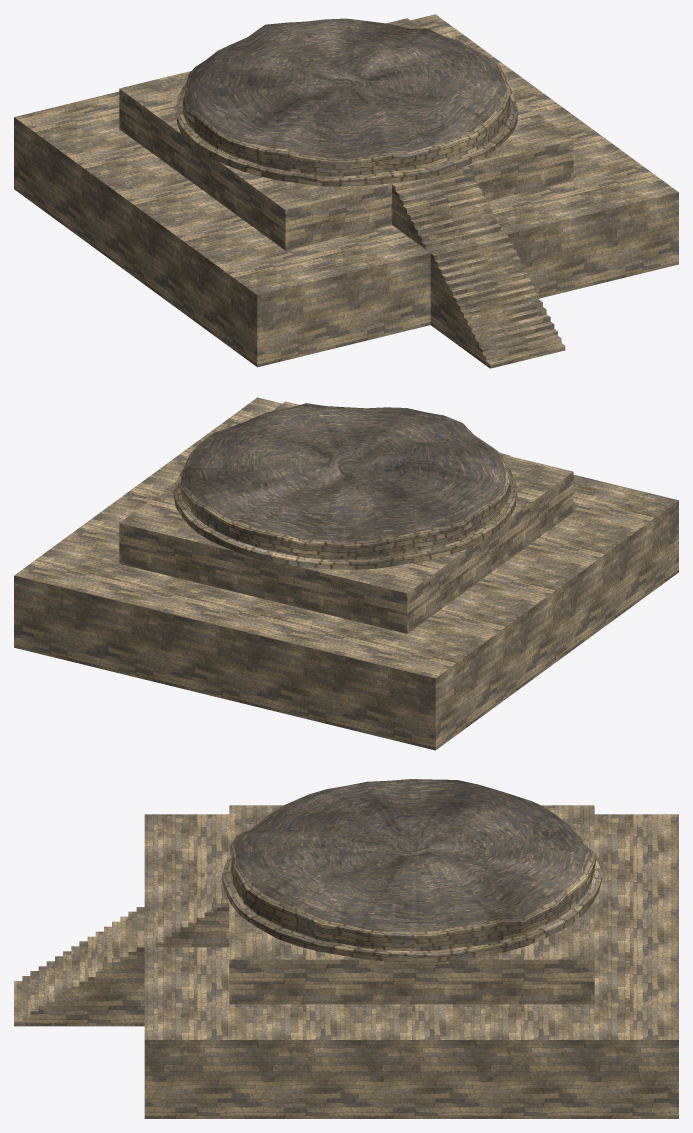
The model's file is saidu-sharif-stupa.glb.
The picture shows the model from 3 angles, top to bottom: view 1: azimuth 30°, elevation 25°; view 2: azimuth 150°, elevation 25°; view 3: azimuth 270°, elevation 25°; orthographic projection. The views are drawn at different scales.
Visible parts, largest first — view 1: saidu-sharif-stupa_blocks, saidu-sharif-stupa_lathe; view 2: saidu-sharif-stupa_blocks, saidu-sharif-stupa_lathe; view 3: saidu-sharif-stupa_blocks, saidu-sharif-stupa_lathe.
Boxes of the visible parts, x1,y1,x2,y2 form: saidu-sharif-stupa_blocks: (14, 14, 678, 368); saidu-sharif-stupa_lathe: (175, 18, 517, 186); saidu-sharif-stupa_blocks: (14, 397, 678, 750); saidu-sharif-stupa_lathe: (174, 403, 517, 569); saidu-sharif-stupa_blocks: (14, 805, 678, 1118); saidu-sharif-stupa_lathe: (222, 779, 602, 962).
Size of the model in its own units: 19.6 by 6.84 by 24.4.
2 materials, 2 textured.
